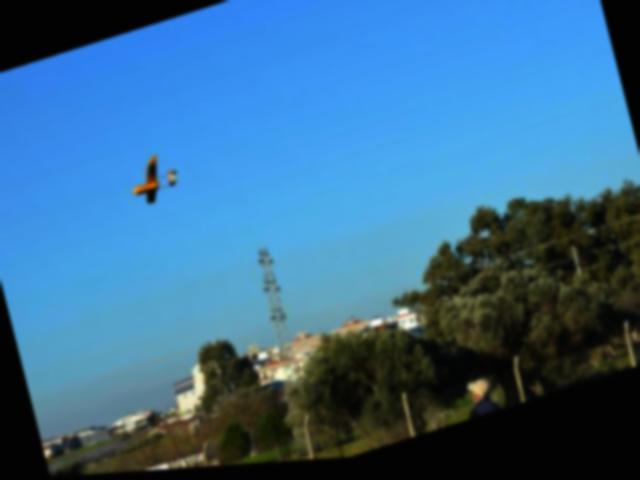iha: (120, 147, 186, 217)
